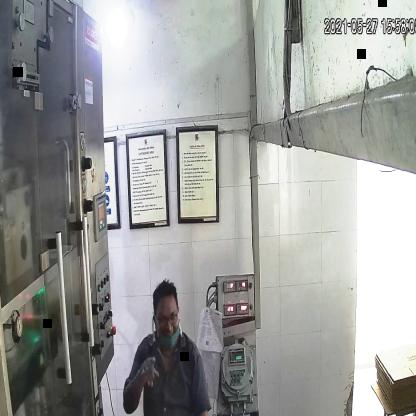goggles: (152, 308, 181, 333)
